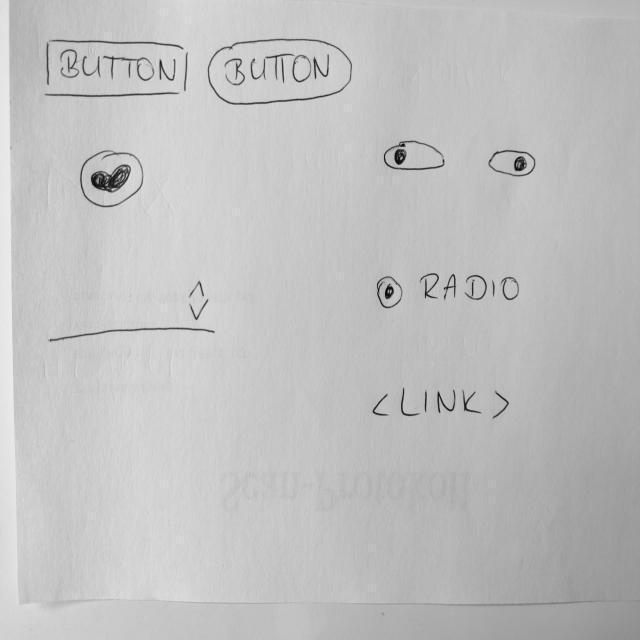button: (207, 37, 355, 109), (44, 36, 190, 101)
icon-button: (79, 148, 147, 213)
link: (372, 385, 513, 423)
number-input: (47, 278, 219, 347)
radio: (375, 271, 411, 312)
toggle: (383, 139, 448, 173), (488, 149, 538, 178)
